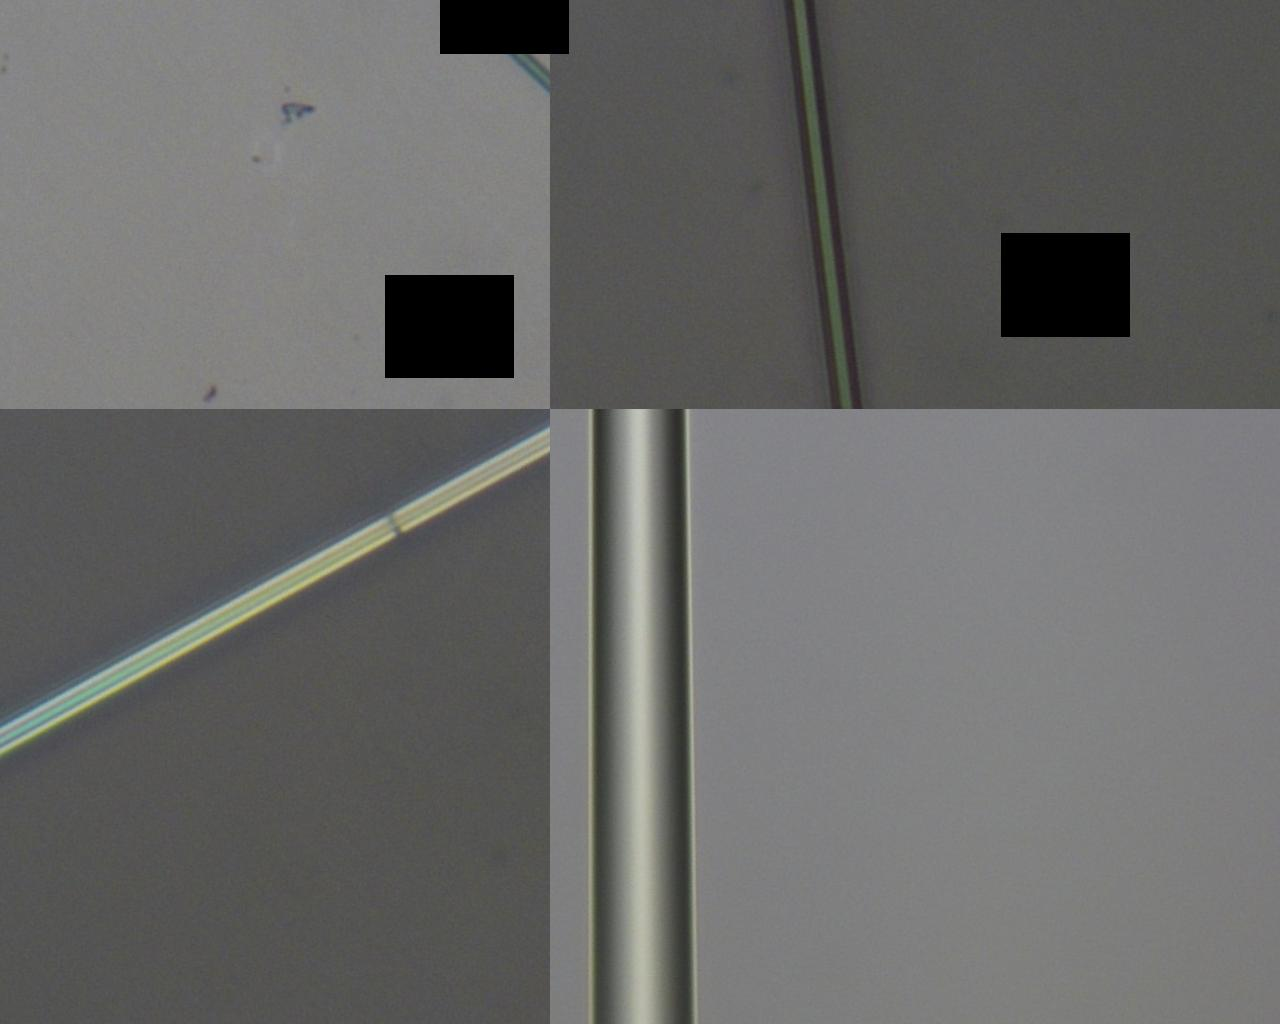fiber: (0, 426, 550, 751), (588, 409, 695, 1024), (781, 0, 863, 409)
